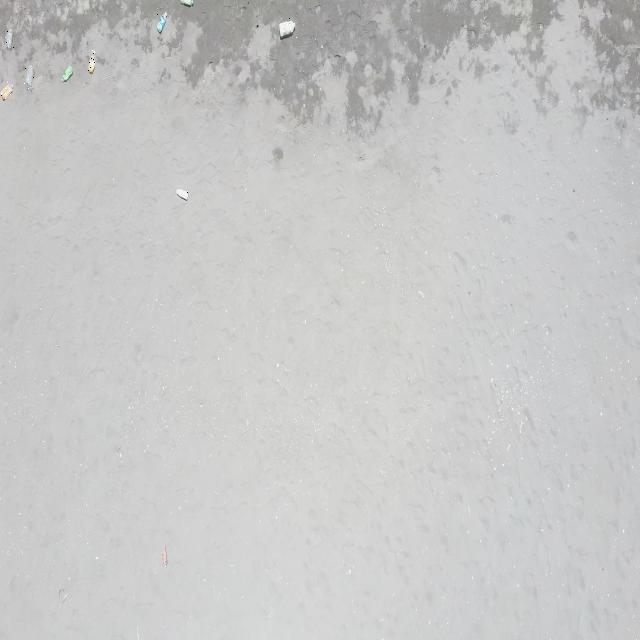plastic-bottle: (278, 18, 297, 39), (0, 82, 14, 101), (157, 11, 167, 35), (61, 65, 73, 83), (87, 50, 96, 74), (176, 188, 189, 202), (179, 0, 193, 8)
takeaway-cup: (24, 64, 34, 90), (4, 28, 14, 48)
